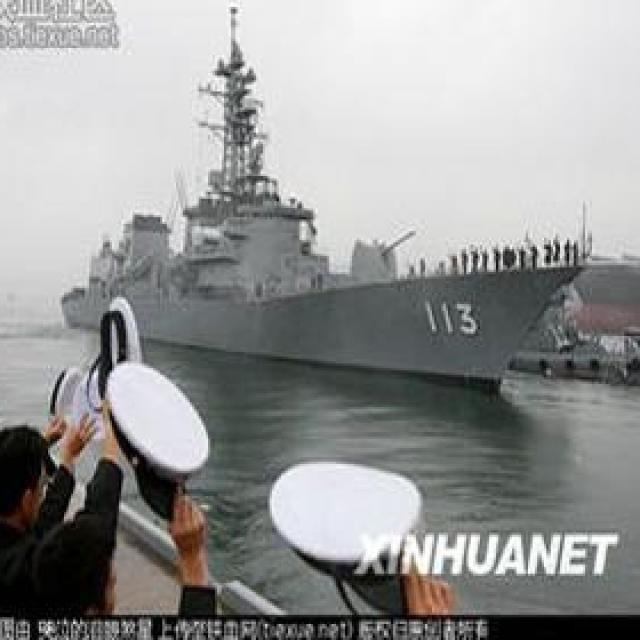navalvessels: (36, 4, 594, 402)
